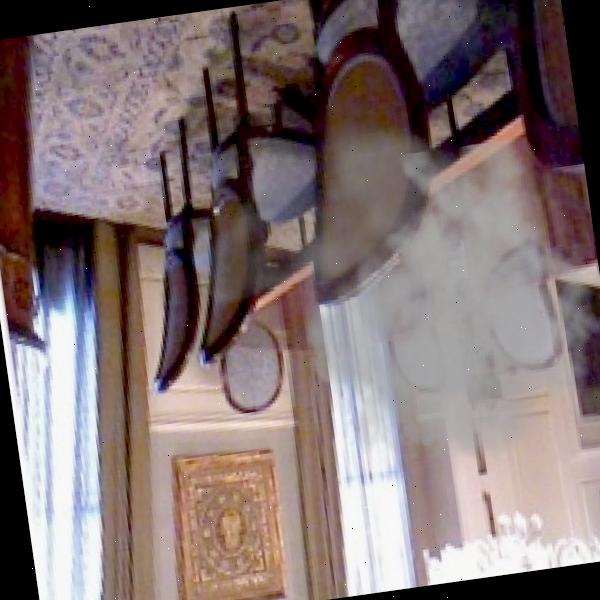smoke: (172, 84, 600, 520)
